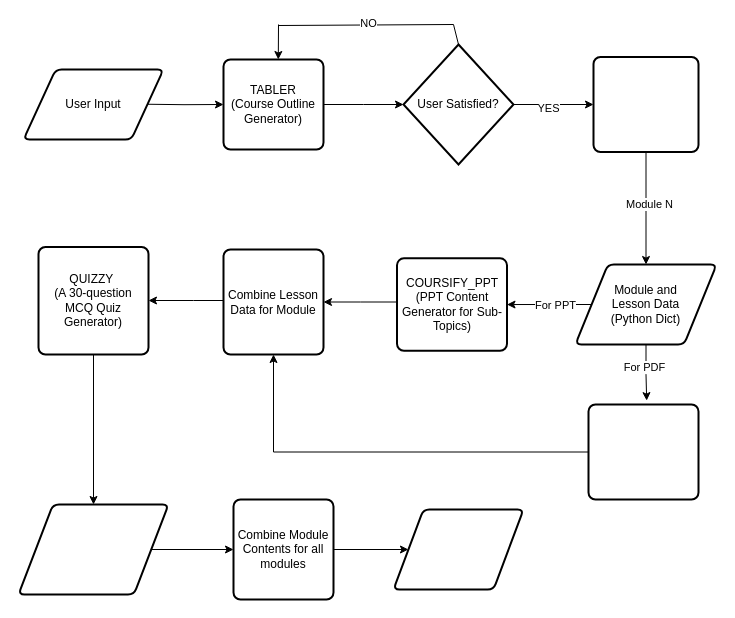
Some shapes in this 735 by 618 pixel diagram are drawn without their labels. The shapes that lost their labels are listed below. From the top down, each one's box as (x1, y1, x2, y2) in pixels, then its label:
(592, 56, 699, 152): Separate Modules and their corresponding lessons
(587, 403, 699, 500): COURSIFY (Content Generator for Sub-Topics)
(17, 503, 169, 595): Module Content + Quiz
(392, 508, 524, 590): User Output
